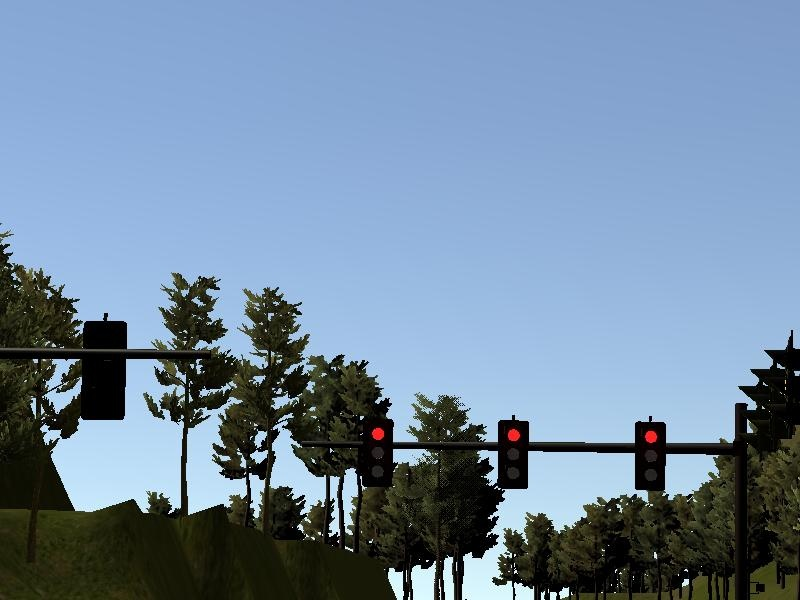traffic_light_red: (337, 416, 732, 491)
